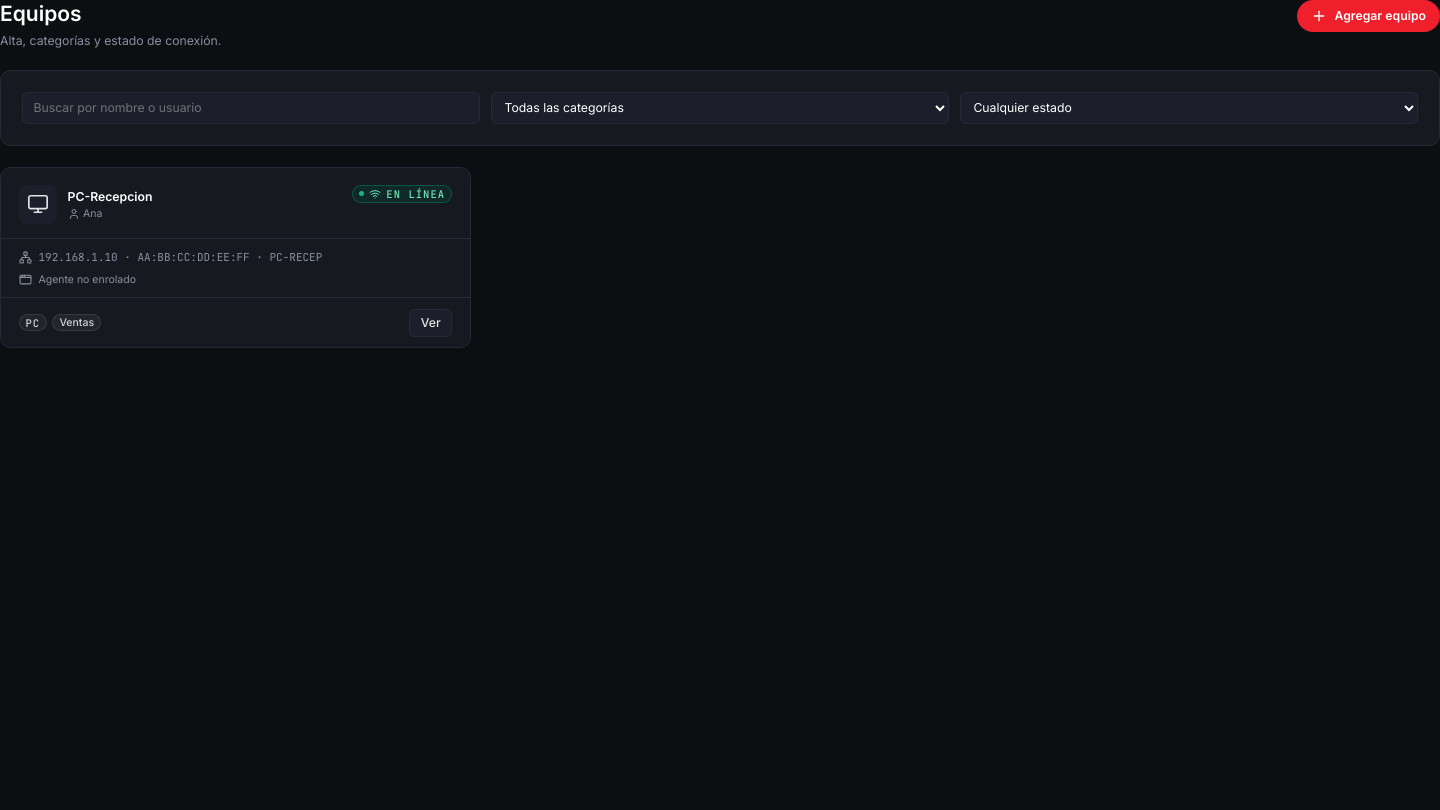
Scenario: abre el detalle de un equipo al hacer click en Ver
Expected: the text "PC-Recepcion" is shown, [68,188,152,205]
Click the button "Ver".
click(431, 322)  # box [409,308,452,336]
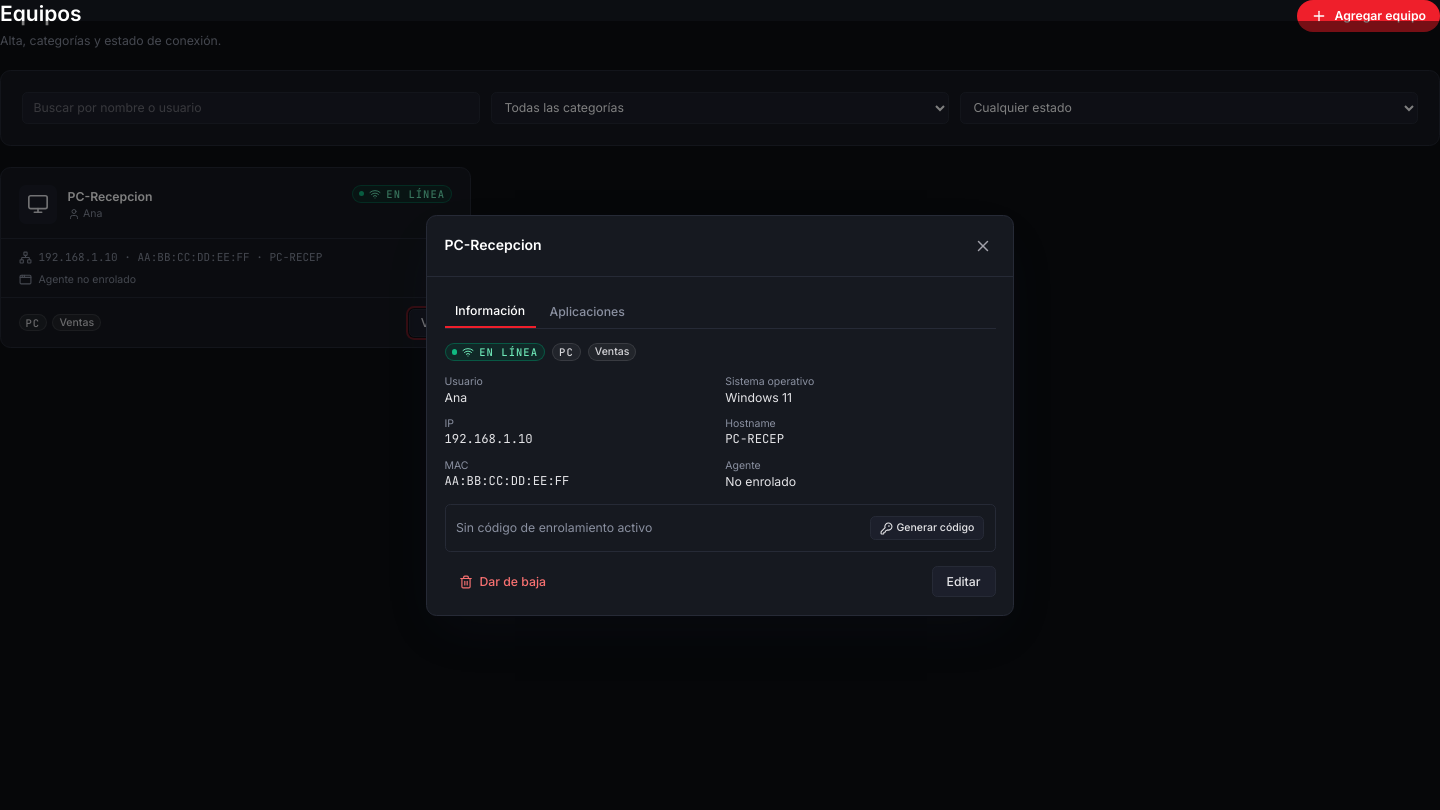
Expected: the text "Sin código de enrolamiento activo" is shown, [456,519,652,537]
Expected: the text "Windows 11" is shown, [725,390,792,405]
